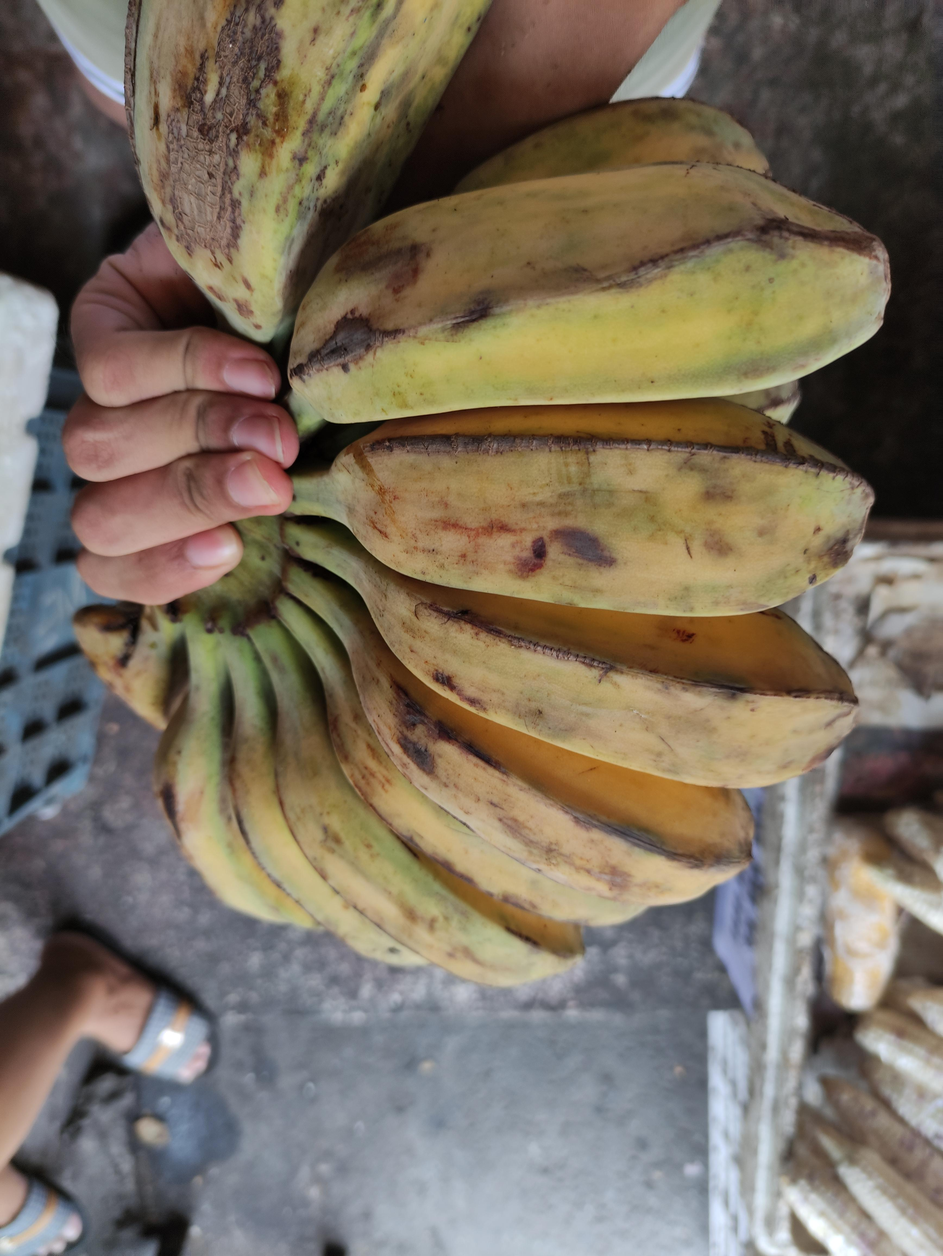underripe: (76, 0, 890, 985)
